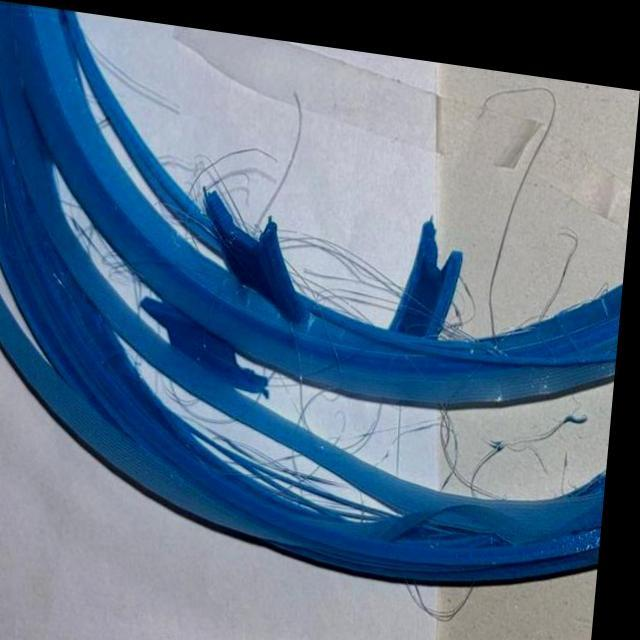stringing: (288, 228, 410, 302), (433, 398, 520, 481), (254, 442, 340, 488), (299, 372, 332, 422)
